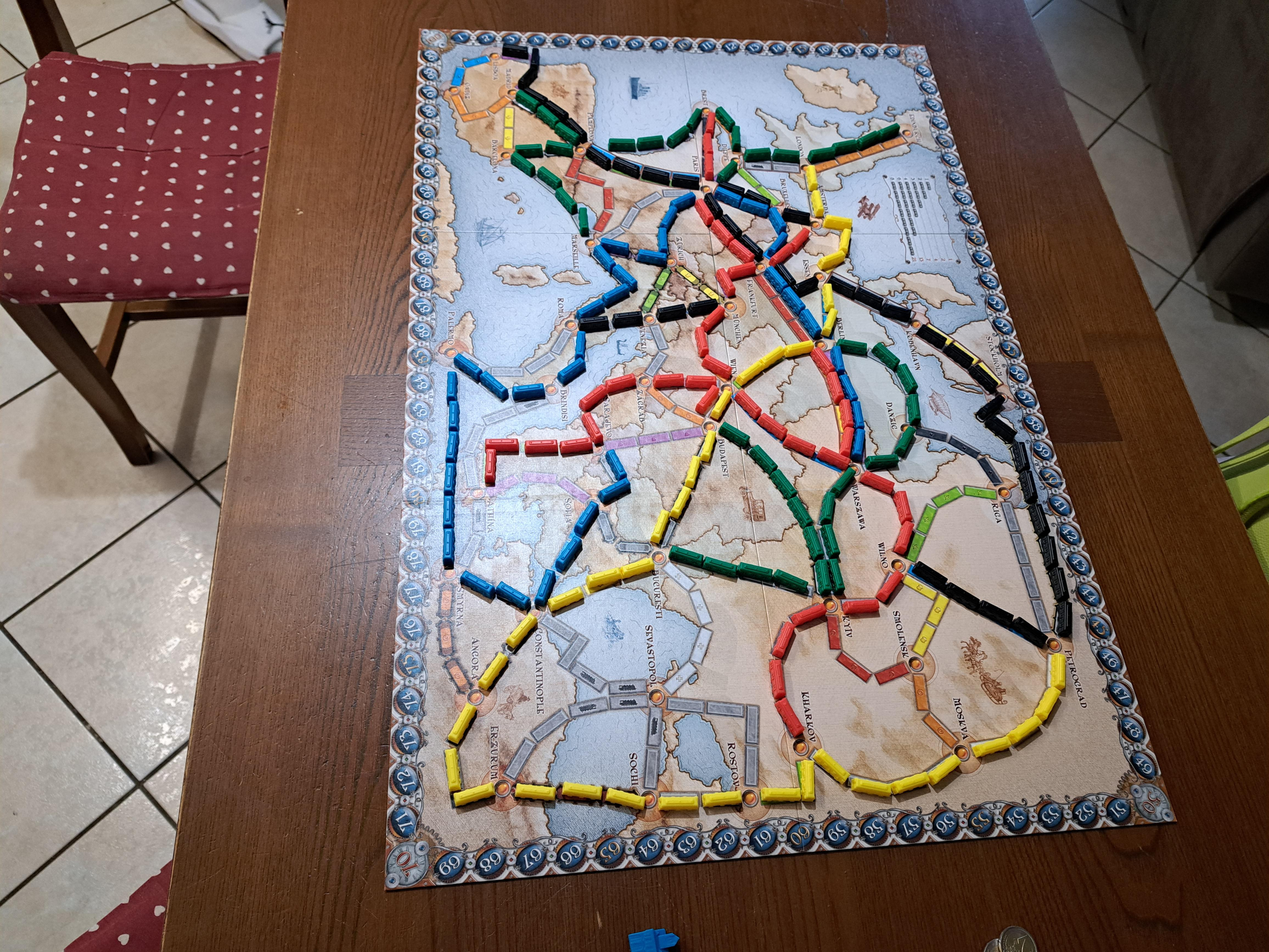corner_bl: (822, 902, 850, 924)
corner_br: (838, 63, 884, 116)
corner_tl: (340, 887, 368, 907)
corner_tr: (94, 129, 141, 171)
